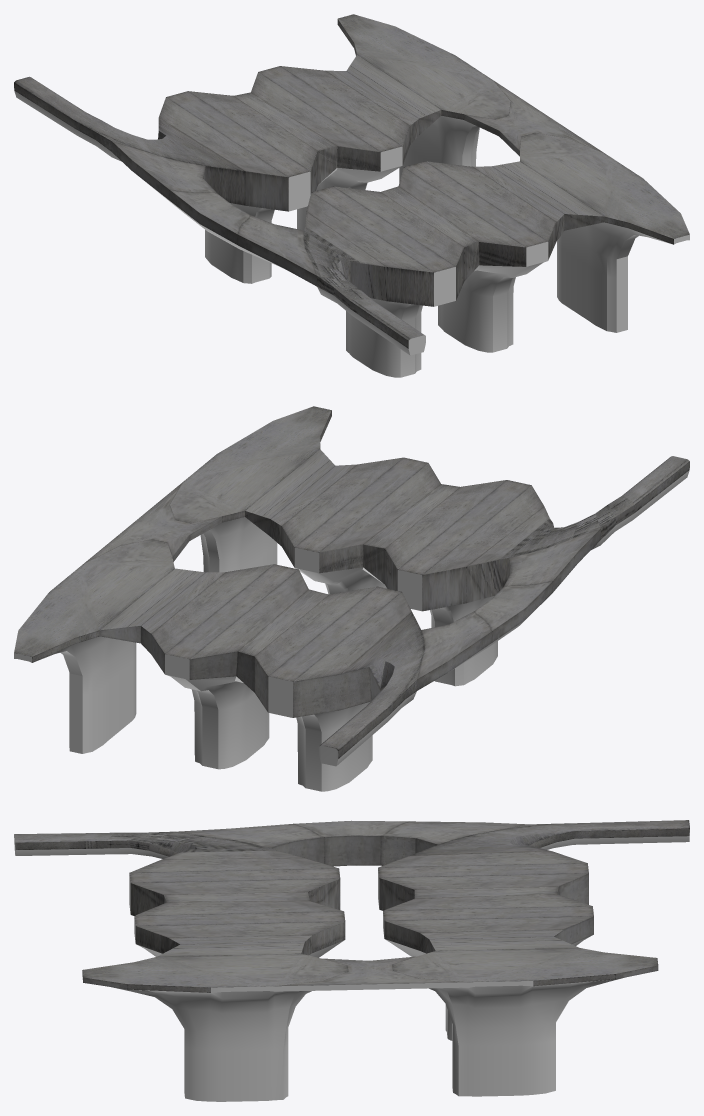
3 renders of one model, top to bottom at view 1: azimuth 30°, elevation 25°; view 2: azimuth 150°, elevation 25°; view 3: azimuth 270°, elevation 25°, orthographic. The views are drawn at different scales.
Visible parts, largest first — view 1: Cube.071; view 2: Cube.071; view 3: Cube.071.
Boxes of the visible parts, x1,y1,x2,y2 form: Cube.071: (14, 14, 689, 377); Cube.071: (14, 406, 689, 791); Cube.071: (14, 820, 689, 1101).
Size of the model in its own units: 8588 by 2952 by 14561.
